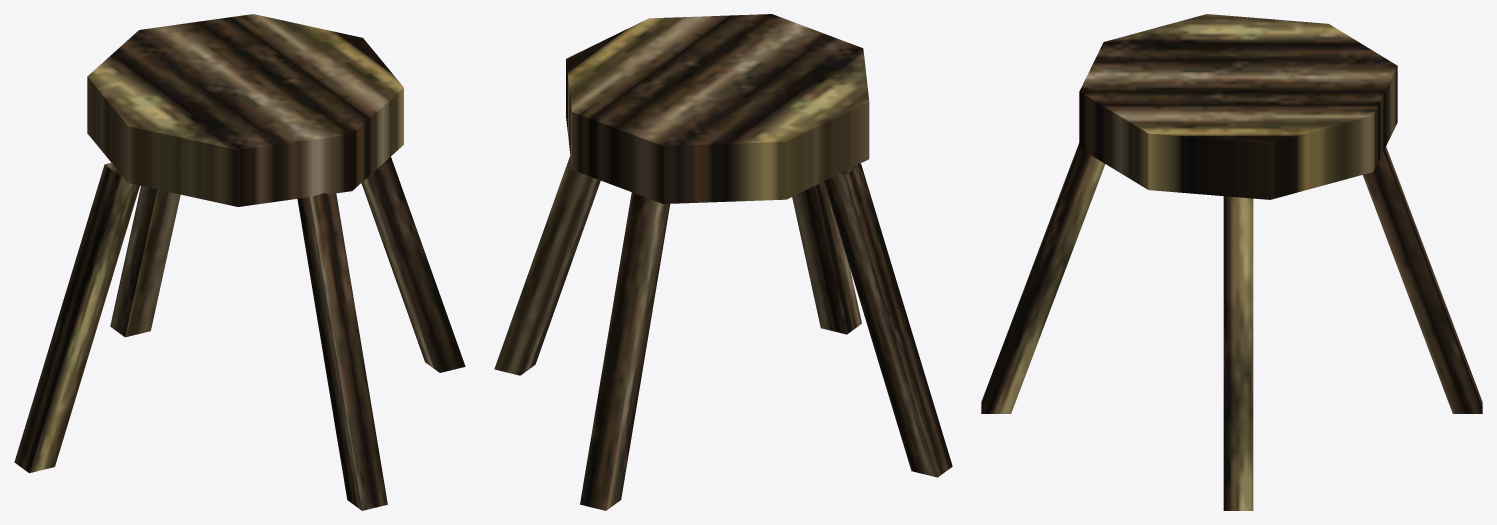
File: wooden_chair.dae
3 renders of one model, left to right at view 1: azimuth 30°, elevation 25°; view 2: azimuth 150°, elevation 25°; view 3: azimuth 270°, elevation 25°, orthographic. The views are drawn at different scales.
Visible parts, largest first — view 1: Circle; view 2: Circle; view 3: Circle.
Boxes of the visible parts, x1,y1,x2,y2 form: Circle: (14, 14, 465, 510); Circle: (494, 14, 952, 510); Circle: (981, 14, 1482, 510).
Size of the model in its own units: 1.81 by 1.81 by 1.32.
